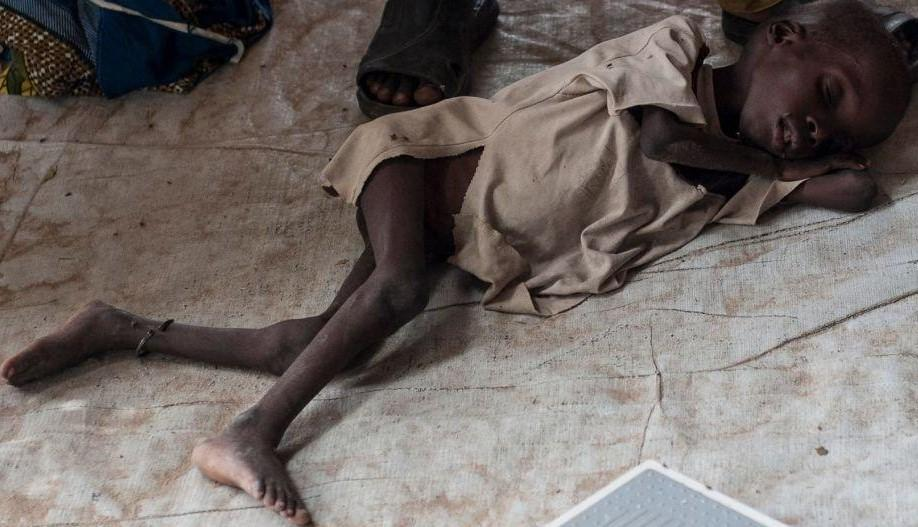Stunting: (756, 0, 918, 217)
